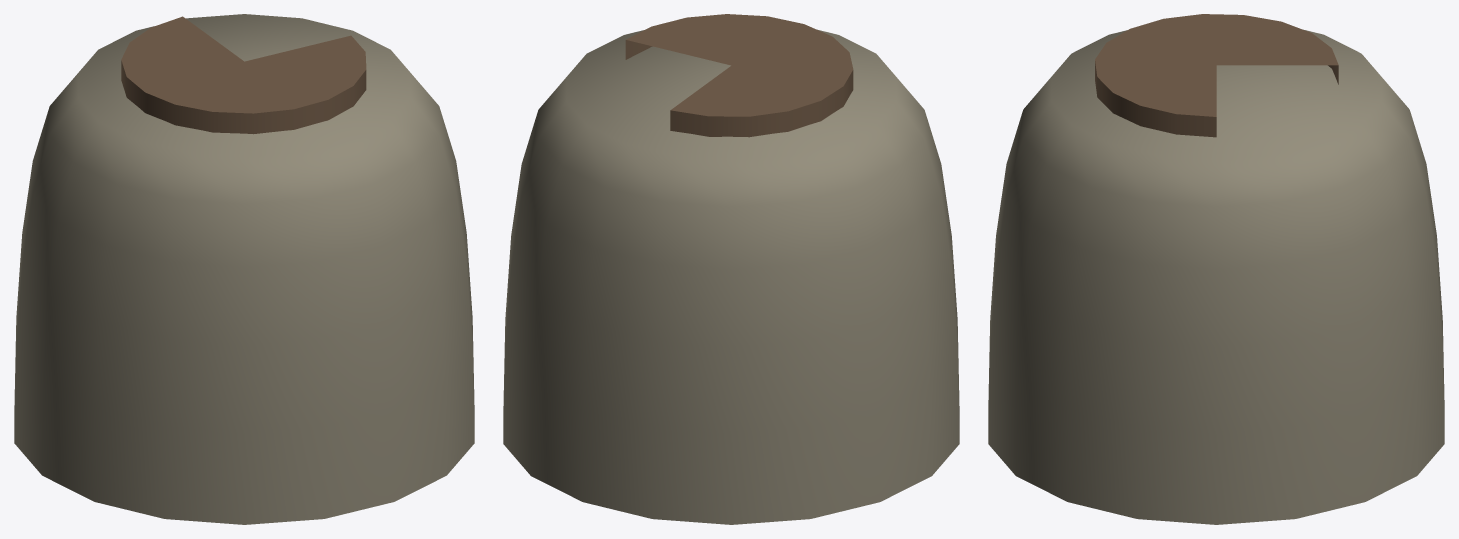
Rendered from cotton_robe.obj.
The picture shows the model from 3 angles, left to right: view 1: azimuth 30°, elevation 25°; view 2: azimuth 150°, elevation 25°; view 3: azimuth 270°, elevation 25°; orthographic projection.
Parts seen in each view (by area): view 1: cotton_robe; view 2: cotton_robe; view 3: cotton_robe.
Part boxes in pixels (x1=…): cotton_robe: x1=14, y1=14, x2=474, y2=524; cotton_robe: x1=503, y1=14, x2=959, y2=524; cotton_robe: x1=988, y1=14, x2=1444, y2=524.
Size of the model in its own units: 1.44 by 1.24 by 1.42.
